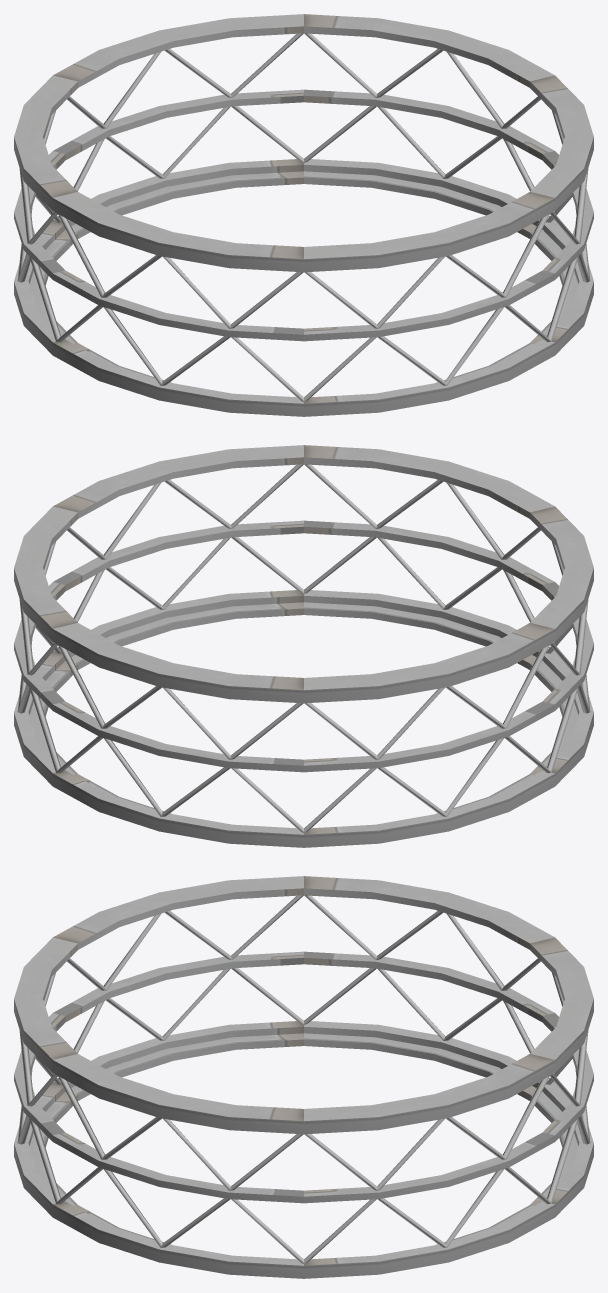
The model's file is ALV_2_Engine_1_Interstage.obj.
3 renders of one model, top to bottom at view 1: azimuth 30°, elevation 25°; view 2: azimuth 150°, elevation 25°; view 3: azimuth 270°, elevation 25°, orthographic.
Visible parts, largest first — view 1: ALV_2_Engine_1_Interstage; view 2: ALV_2_Engine_1_Interstage; view 3: ALV_2_Engine_1_Interstage.
Part boxes in pixels (x1=…): ALV_2_Engine_1_Interstage: x1=14, y1=14, x2=593, y2=416; ALV_2_Engine_1_Interstage: x1=14, y1=445, x2=593, y2=847; ALV_2_Engine_1_Interstage: x1=14, y1=876, x2=593, y2=1278.
Bounding box in the file's own units: 2.5 × 0.75 × 2.5.
